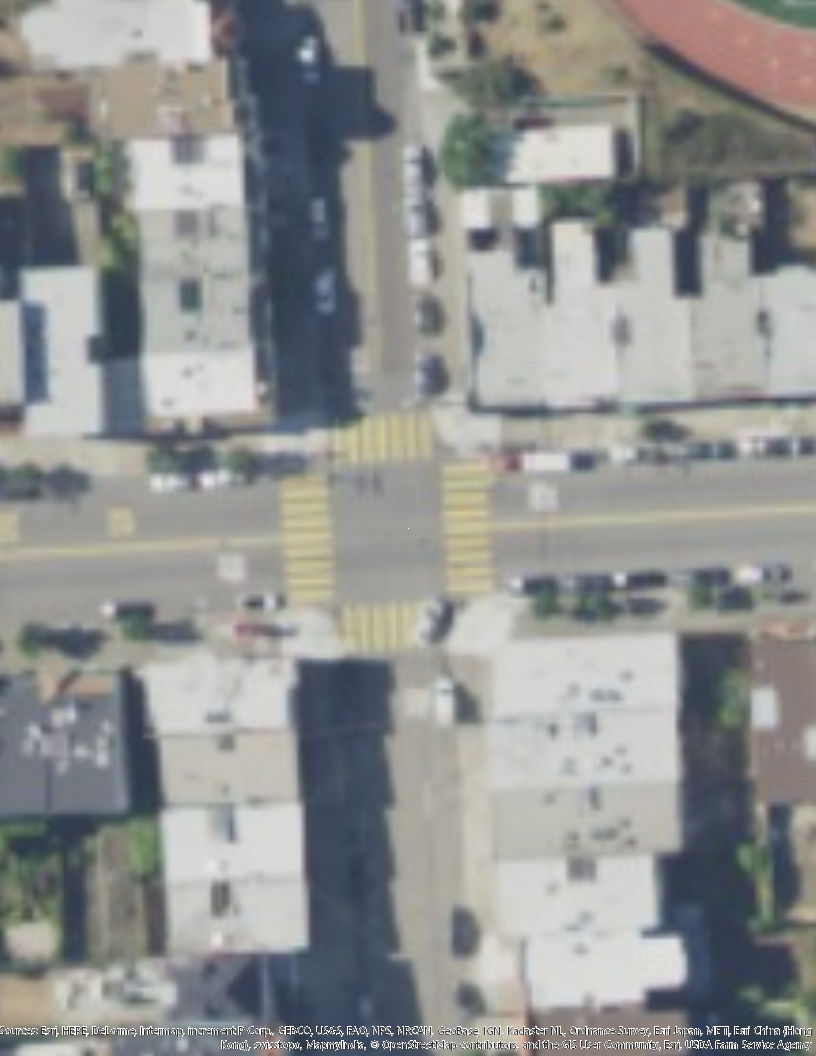zebracross: (278, 468, 338, 597), (443, 459, 494, 599), (341, 601, 453, 654), (330, 412, 429, 463)
